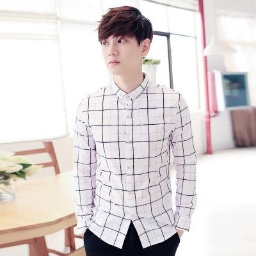face: (95, 5, 155, 75)
